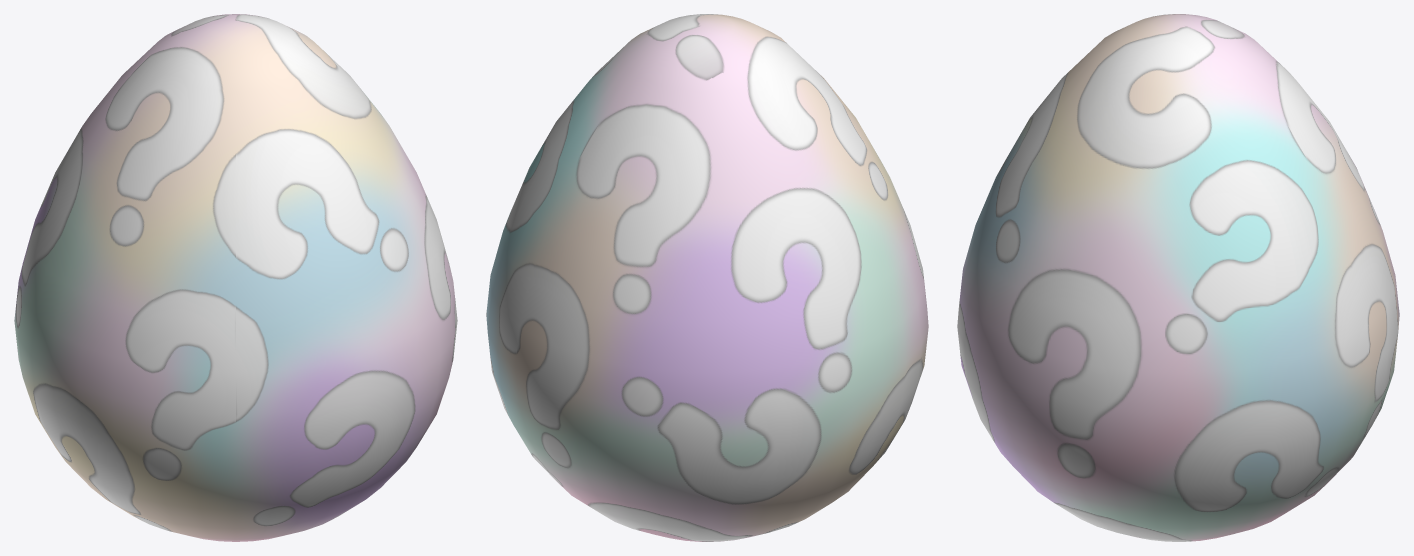
The model's file is egg.glb.
The picture shows the model from 3 angles, left to right: view 1: azimuth 30°, elevation 25°; view 2: azimuth 150°, elevation 25°; view 3: azimuth 270°, elevation 25°; orthographic projection.
Parts seen in each view (by area): view 1: Egg; view 2: Egg; view 3: Egg.
Boxes of the visible parts, x1,y1,x2,y2 form: Egg: (14,14,457,541); Egg: (486,14,928,541); Egg: (957,14,1399,541).
Size of the model in its own units: 0.8025 by 0.9971 by 0.8025.
Materials: 1 (1 with a texture image).
